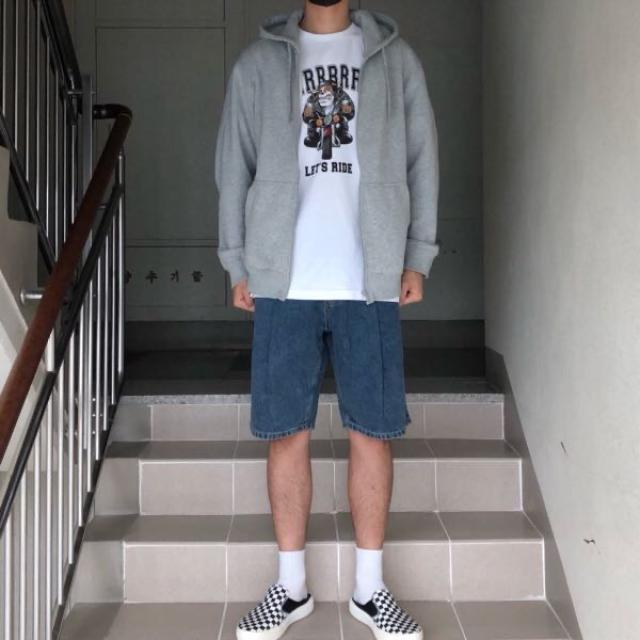shortpants: (251, 296, 416, 448)
zipup: (217, 2, 440, 302)
